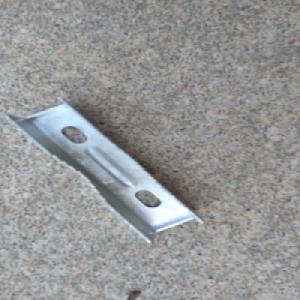ClampPart: (8, 95, 215, 245)
